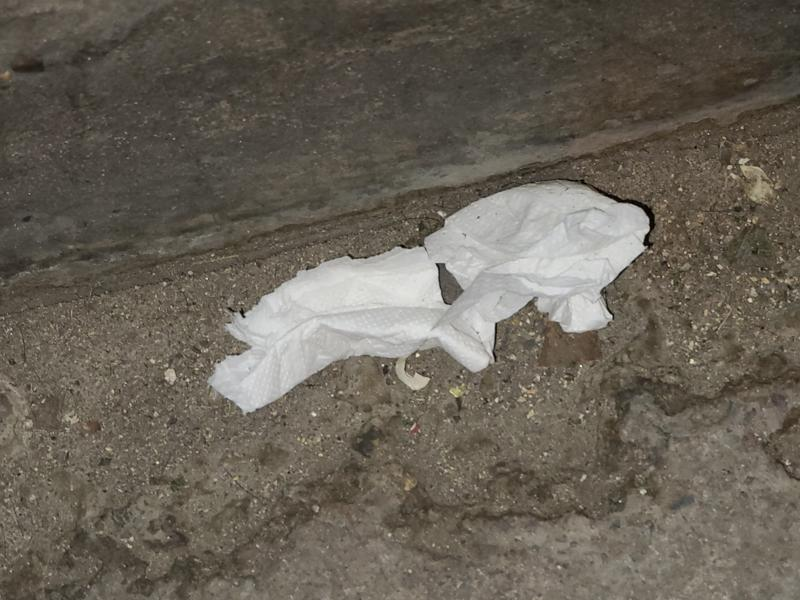papel: (207, 180, 657, 414)
